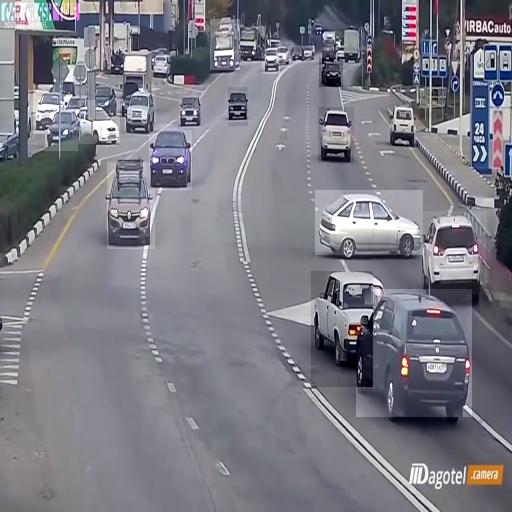小汽车: (356, 289, 472, 417), (311, 272, 373, 388), (315, 190, 423, 255), (423, 211, 487, 295), (107, 162, 155, 249), (149, 124, 192, 190), (318, 107, 354, 163), (78, 100, 120, 144), (124, 84, 156, 134), (210, 19, 240, 70), (45, 106, 78, 152), (33, 85, 63, 134), (178, 89, 205, 130), (390, 104, 416, 146), (228, 87, 248, 126), (319, 58, 343, 87), (150, 48, 170, 78), (262, 44, 280, 74)
